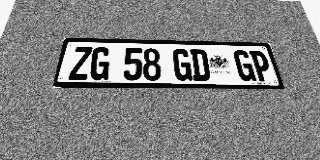5: (123, 48, 142, 81)
8: (143, 48, 161, 81)
D: (190, 49, 211, 81)
G: (233, 50, 257, 81), (89, 47, 111, 80), (172, 49, 193, 81)
P: (249, 50, 274, 82)
Z: (68, 47, 93, 80)
